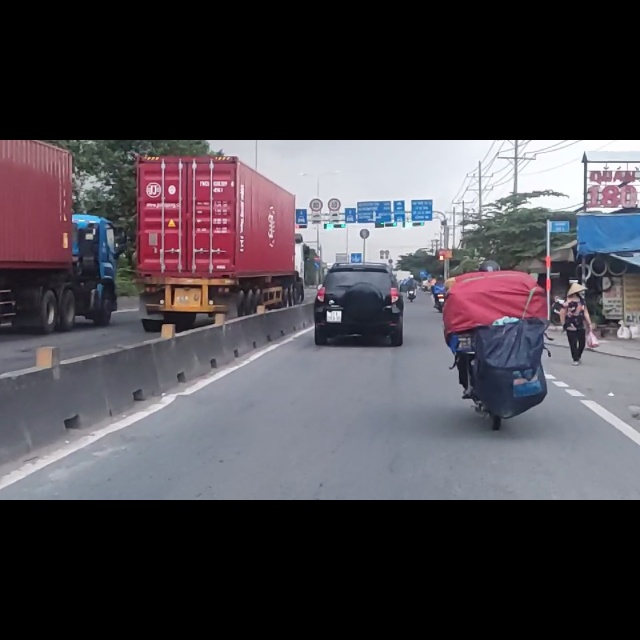bien_cam: (327, 102, 341, 128), (309, 104, 323, 127), (313, 205, 319, 216), (314, 218, 320, 228)
